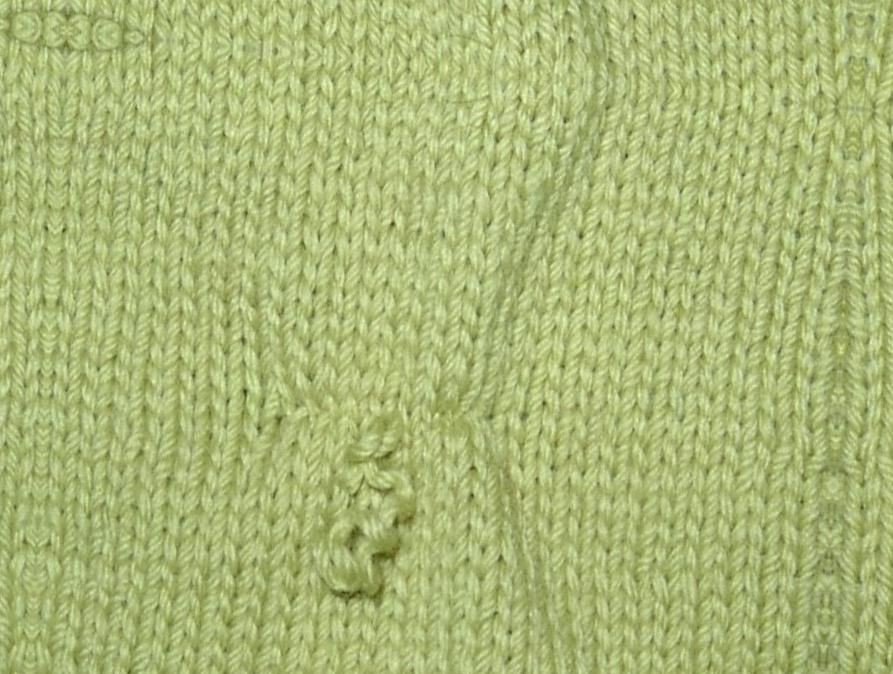knot: (307, 416, 419, 612)
